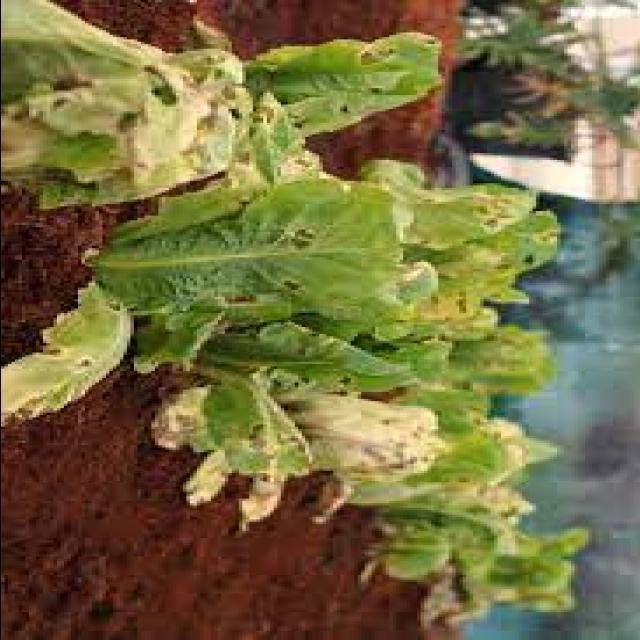Wilt_and_leaf_blight_on_lettuce: (167, 197, 504, 379), (2, 57, 226, 171)
